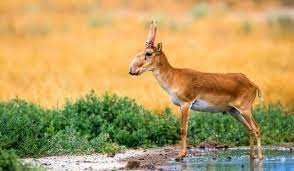saiga: (127, 20, 267, 161)
